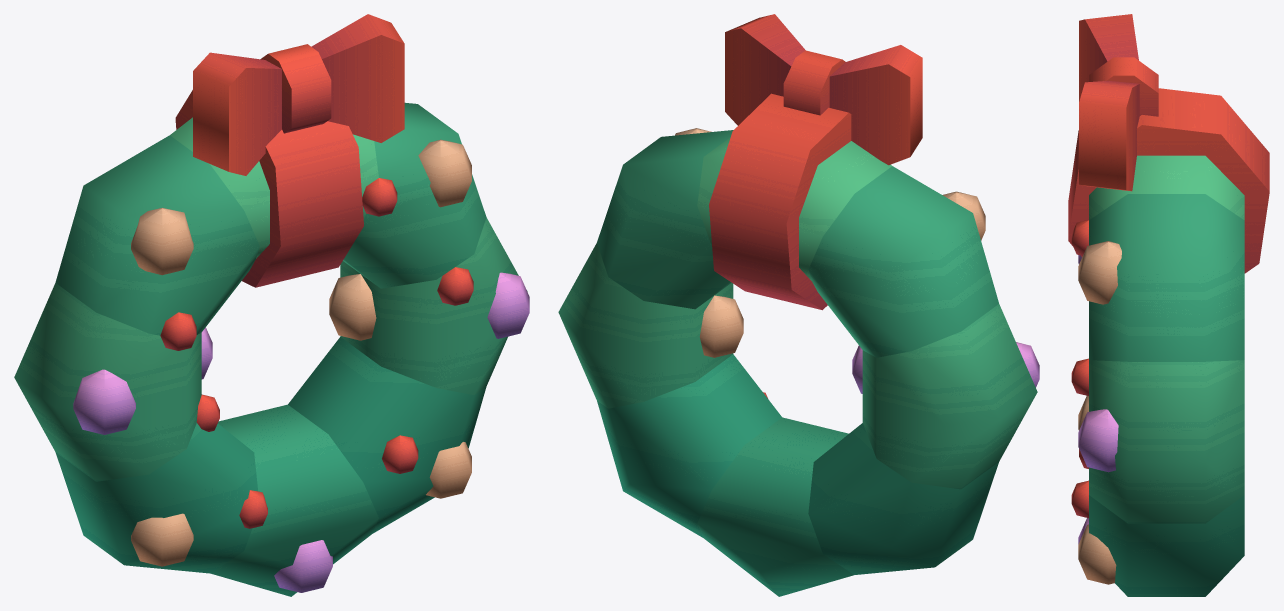
File: wreath-decorated.glb
3 renders of one model, left to right at view 1: azimuth 30°, elevation 25°; view 2: azimuth 150°, elevation 25°; view 3: azimuth 270°, elevation 25°, orthographic. The views are drawn at different scales.
Visible parts, largest first — view 1: wreath-decorated; view 2: wreath-decorated; view 3: wreath-decorated.
Boxes of the visible parts, x1,y1,x2,y2 form: wreath-decorated: [14, 14, 529, 596]; wreath-decorated: [558, 14, 1039, 596]; wreath-decorated: [1068, 14, 1269, 596].
Size of the model in its own units: 2.01 by 2.29 by 0.7778.
Materials: 1 (1 with a texture image).
